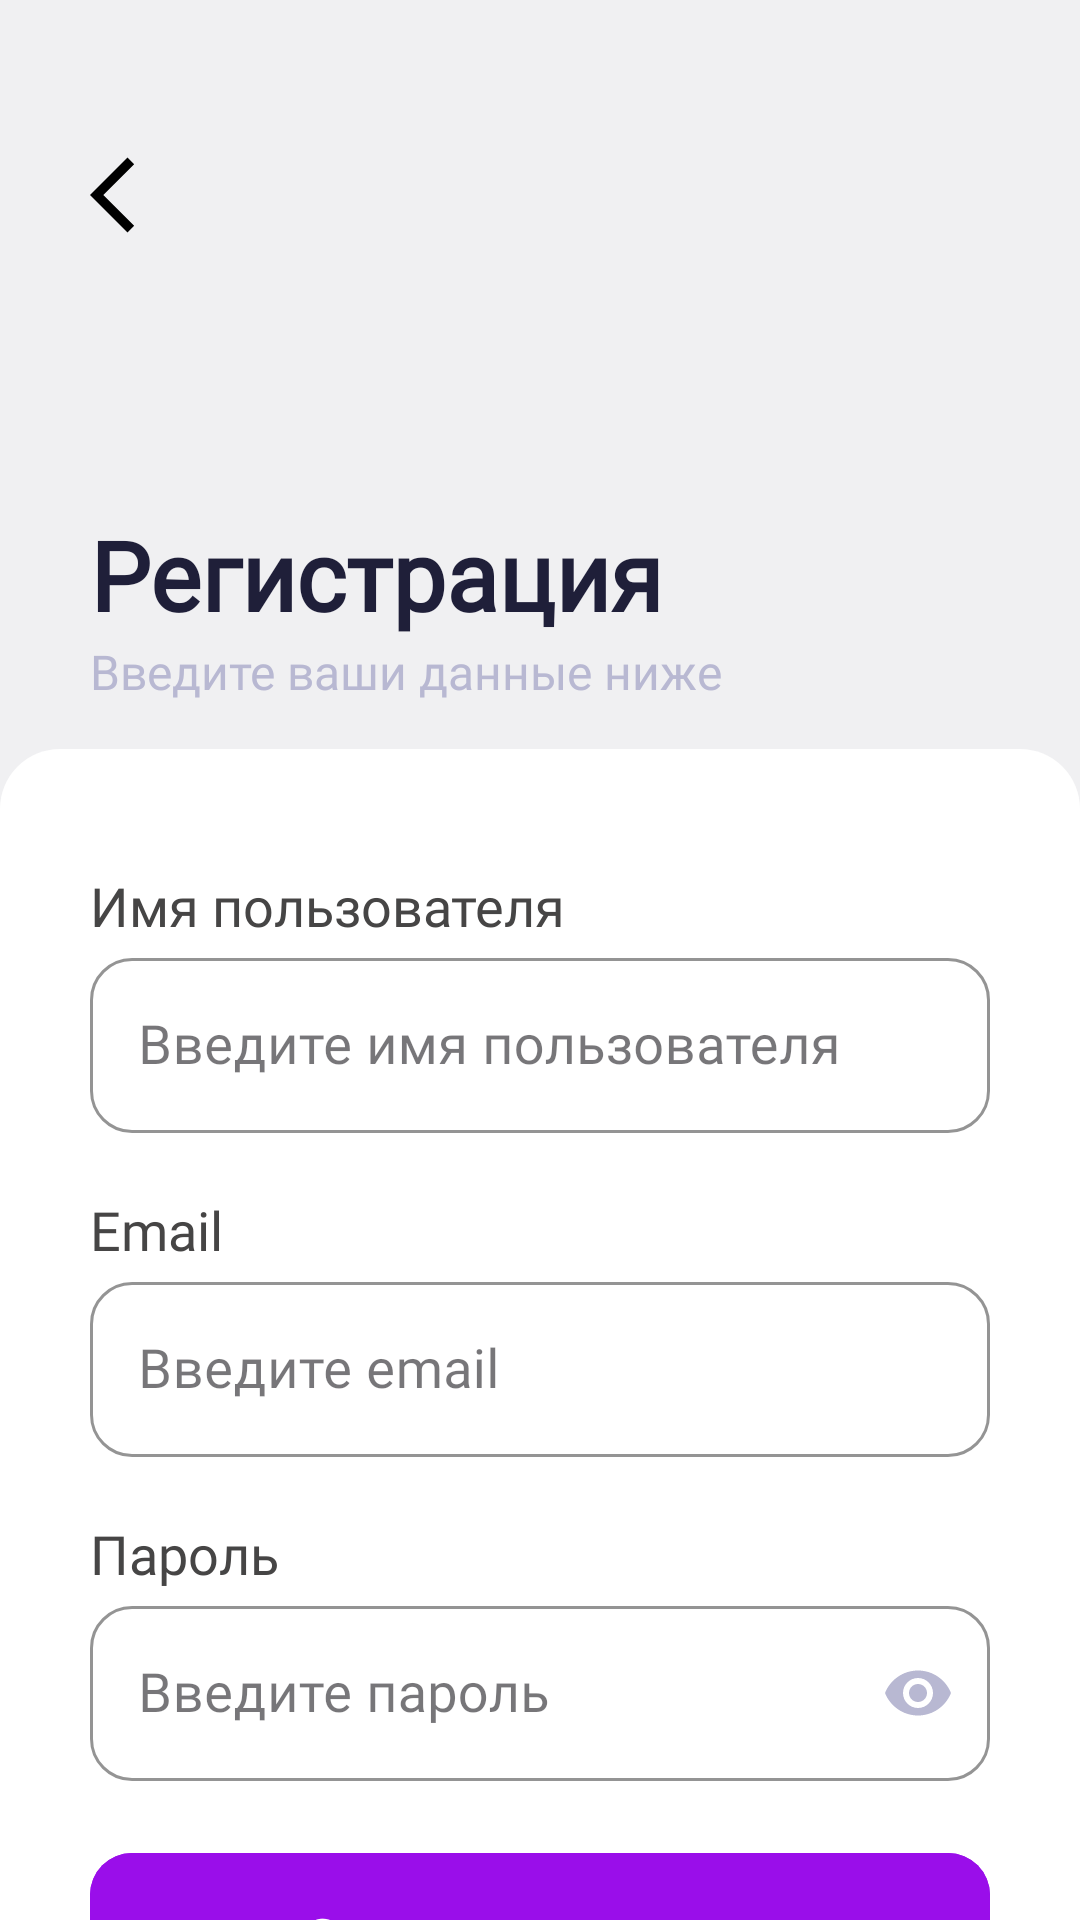

Named icons in this screenshot (1080px×1920px) and their centers, point (x, y):
back to menu button: point (112, 195)
